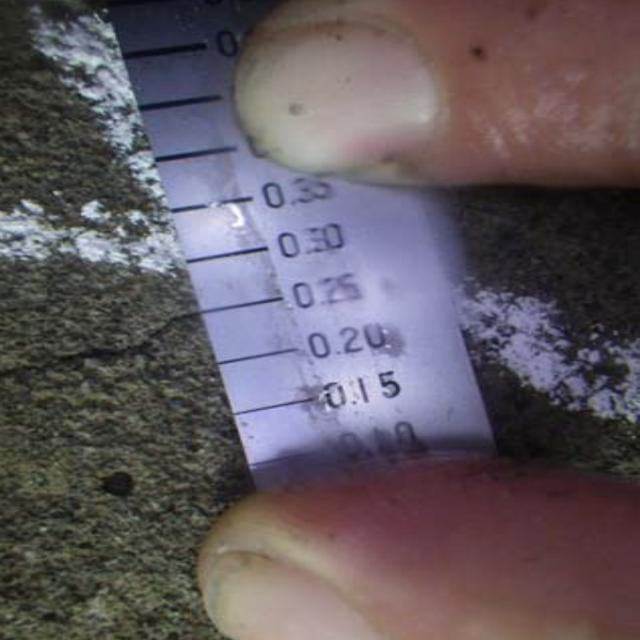crack: (0, 310, 210, 390)
